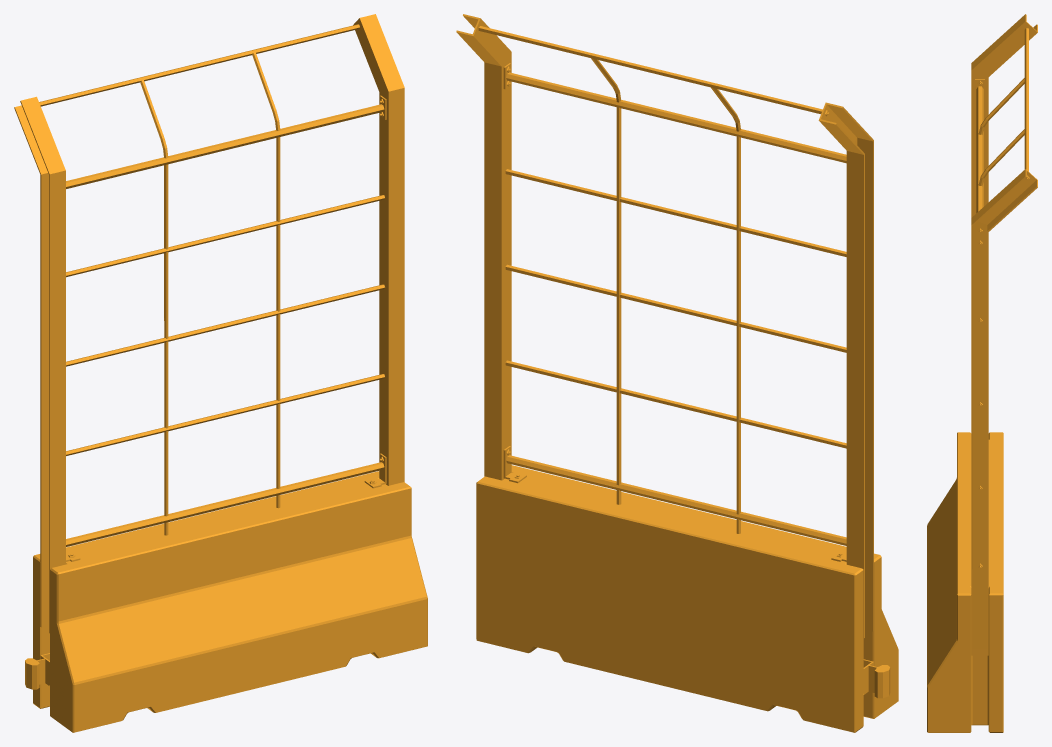
The model's file is SM_Fence_Road_Debrisguard_Bar.fbx.
3 views of the same model, side by side, from view 1: azimuth 30°, elevation 25°; view 2: azimuth 150°, elevation 25°; view 3: azimuth 270°, elevation 25° (orthographic). The views are drawn at different scales.
Visible parts, largest first — view 1: SM_Fence_Road_Debrisguard_Bar; view 2: SM_Fence_Road_Debrisguard_Bar; view 3: SM_Fence_Road_Debrisguard_Bar.
Part boxes in pixels (left/top/right/bottom): SM_Fence_Road_Debrisguard_Bar: left=14, top=14, right=427, bottom=732; SM_Fence_Road_Debrisguard_Bar: left=456, top=14, right=898, bottom=732; SM_Fence_Road_Debrisguard_Bar: left=927, top=14, right=1037, bottom=732.
Size of the model in its own units: 2.63 by 4 by 0.7223.
